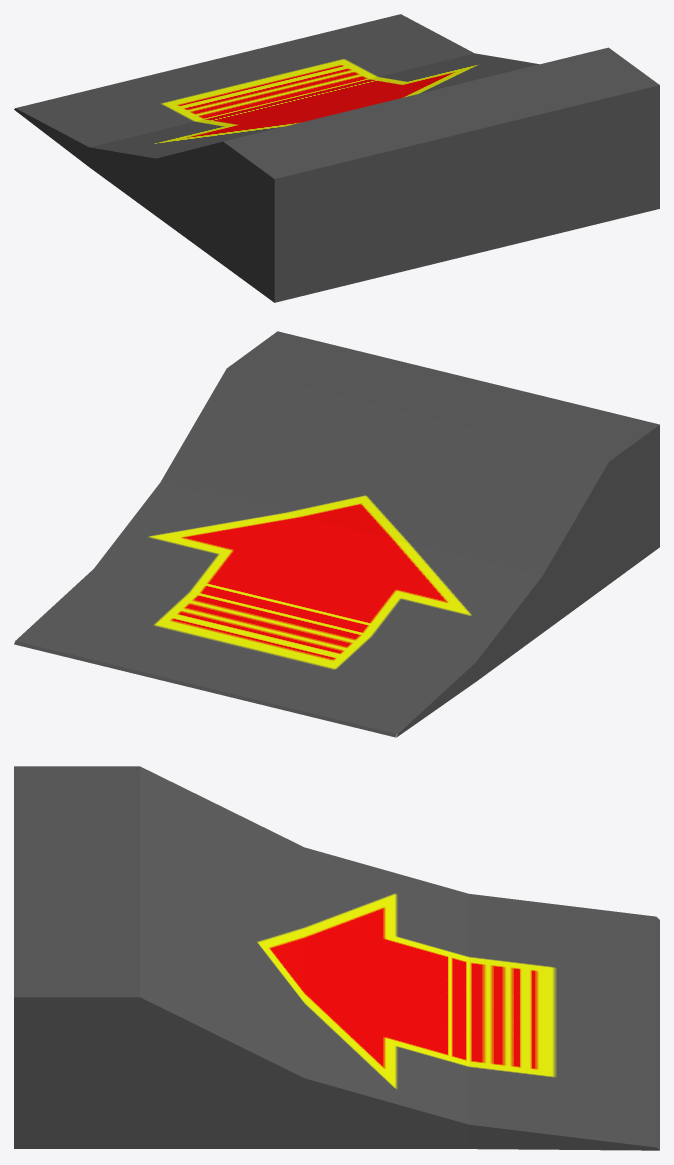
File: ramp.glb
3 views of the same model, one above another, from view 1: azimuth 30°, elevation 25°; view 2: azimuth 150°, elevation 25°; view 3: azimuth 270°, elevation 25° (orthographic). The views are drawn at different scales.
Visible parts, largest first — view 1: Cube; view 2: Cube; view 3: Cube.
Boxes of the visible parts, x1,y1,x2,y2 form: Cube: (14,14,659,302); Cube: (14,331,659,737); Cube: (14,766,659,1150).
Bounding box in the file's own units: 3.35 × 1.02 × 3.93.
Materials: 1 (1 with a texture image).
